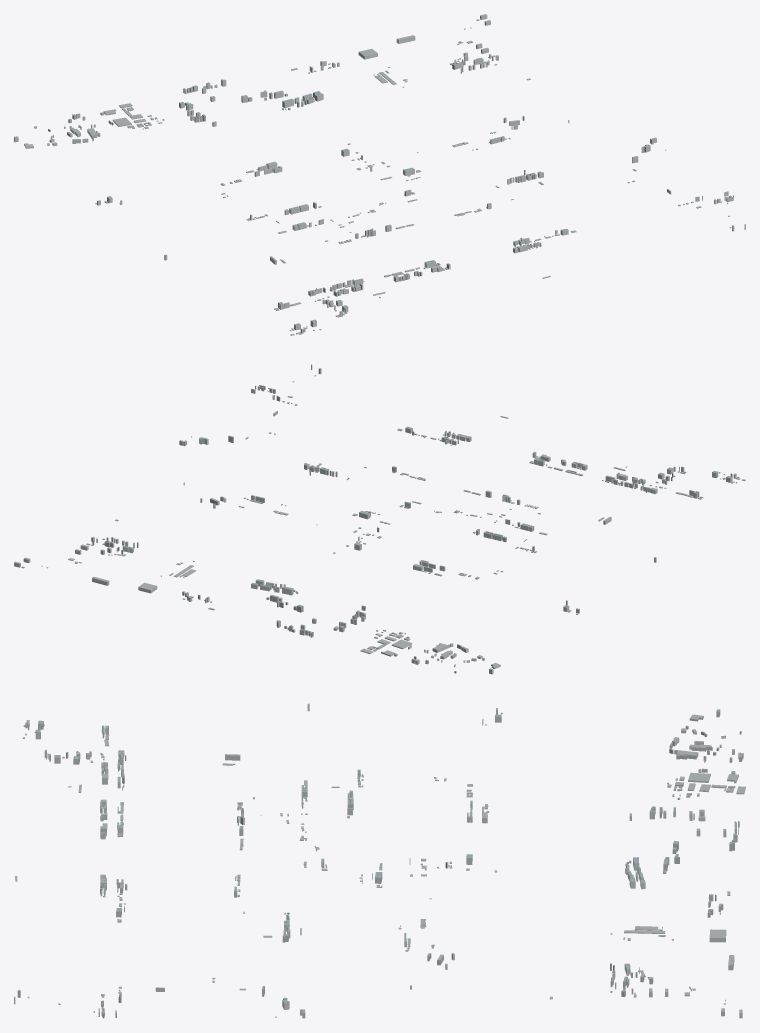
3 views of the same model, one above another, from view 1: azimuth 30°, elevation 25°; view 2: azimuth 150°, elevation 25°; view 3: azimuth 270°, elevation 25° (orthographic). The views are drawn at different scales.
Visible parts, largest first — view 1: 上海全域建筑分块 · mapped building neighborhood; view 2: 上海全域建筑分块 · mapped building neighborhood; view 3: 上海全域建筑分块 · mapped building neighborhood.
Boxes of the visible parts, x1,y1,x2,y2 form: 上海全域建筑分块 · mapped building neighborhood: (14, 14, 745, 335); 上海全域建筑分块 · mapped building neighborhood: (14, 364, 745, 674); 上海全域建筑分块 · mapped building neighborhood: (14, 703, 745, 1018).
Bounding box in the file's own units: 2102 × 23.79 × 2107.
